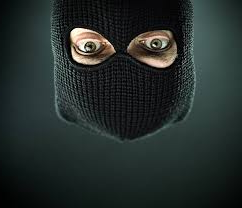terrorist: (23, 1, 232, 148)
